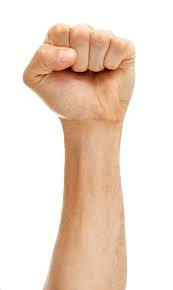fist: (21, 16, 142, 132)
